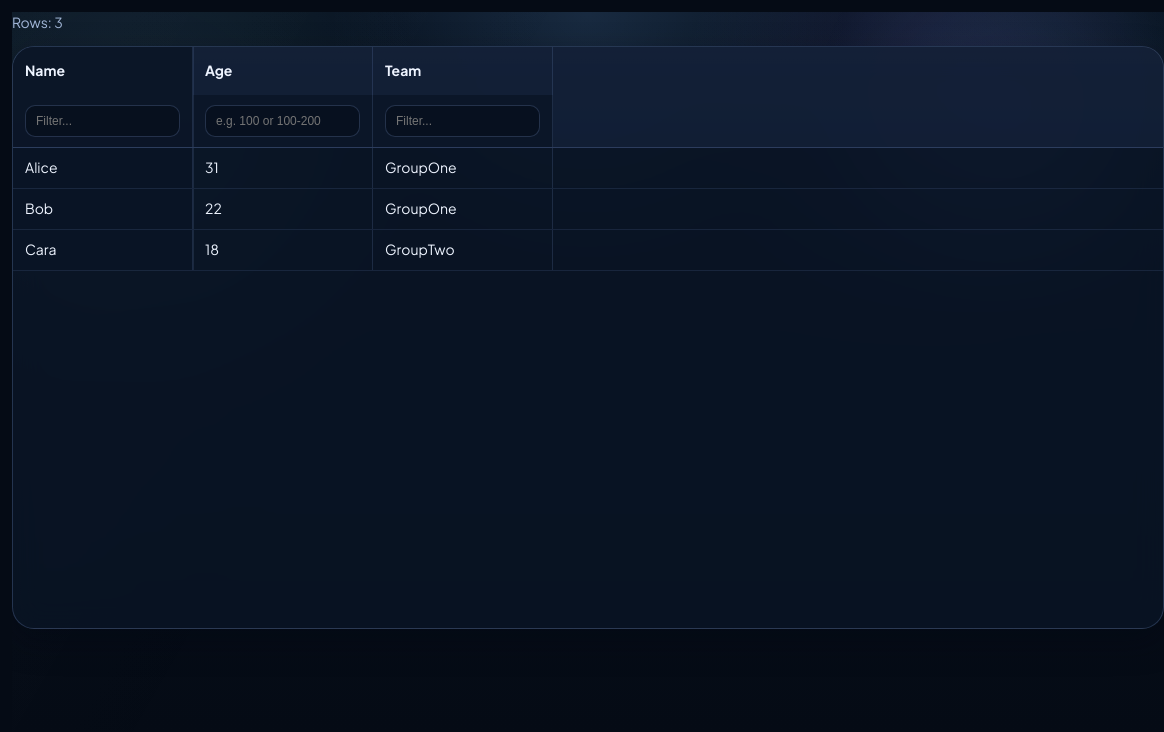
DataGrid advanced coverage › applies numeric range filtering and shift multi-sort
The image size is (1164, 732).
Click the button "Name": (103, 71) x1=13 y1=47 x2=193 y2=95
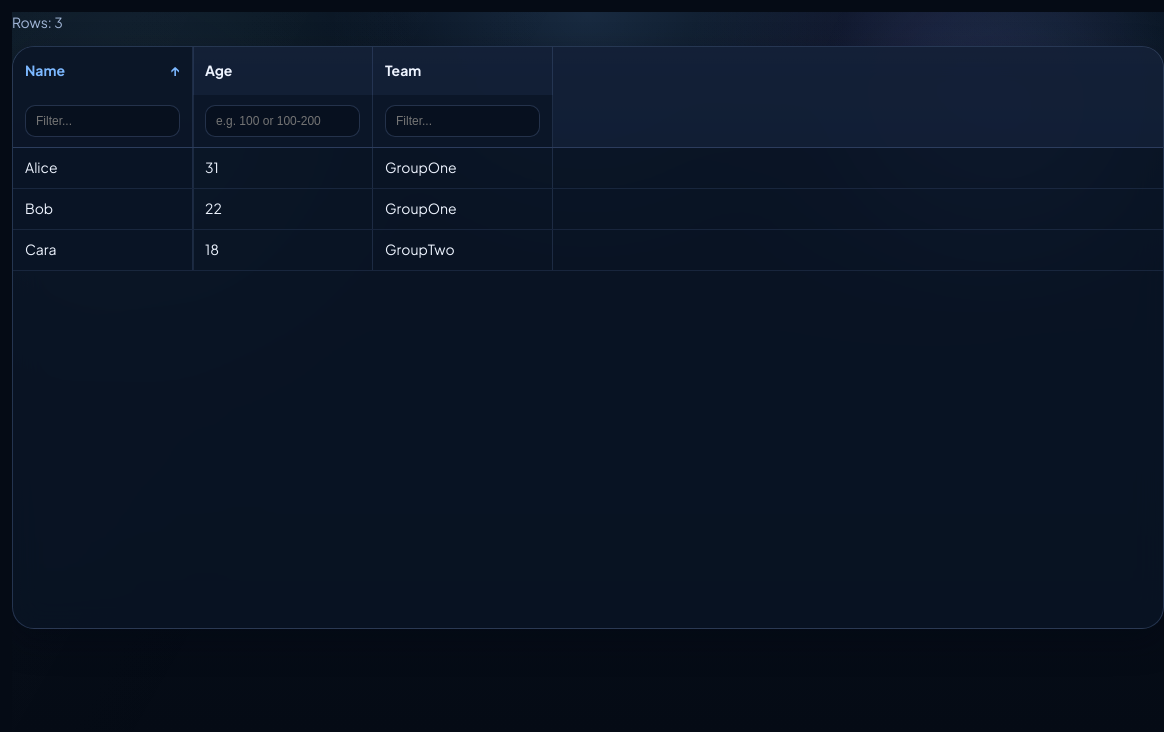
Click the button "Age": (283, 71) x1=193 y1=47 x2=373 y2=95
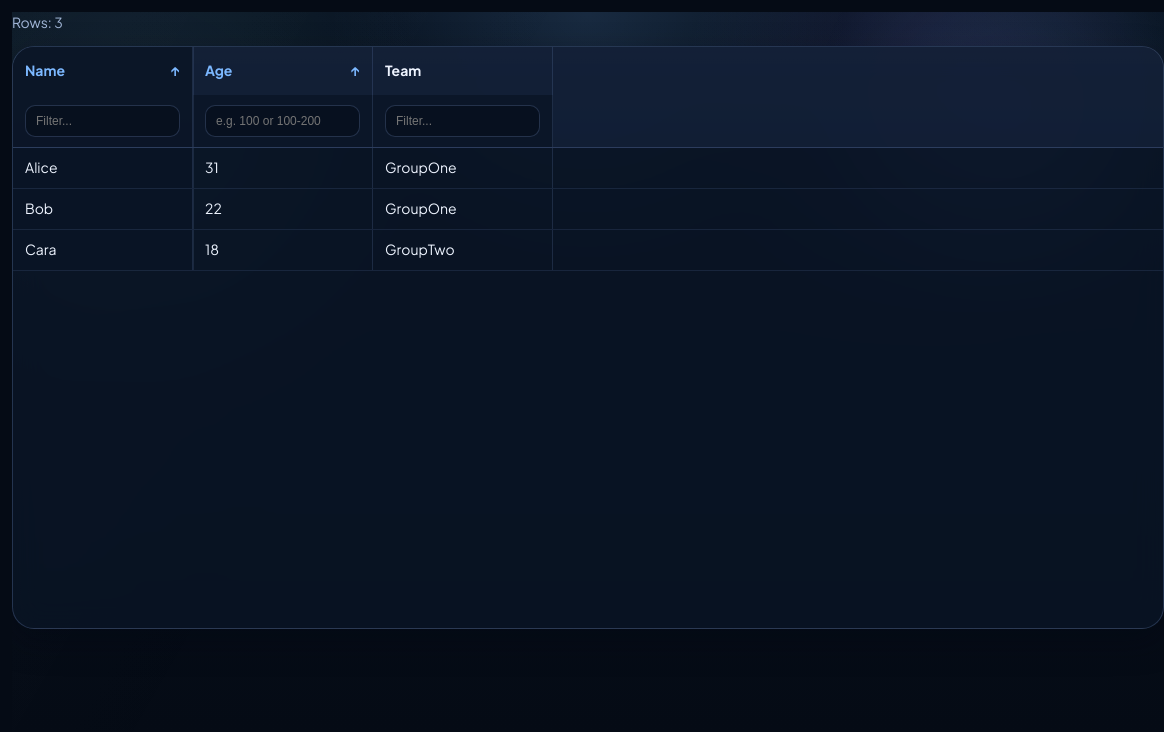
In the field with placeholder "e.g. 100 or 100-200": (282, 121) x1=205 y1=105 x2=360 y2=137, type "20-30"
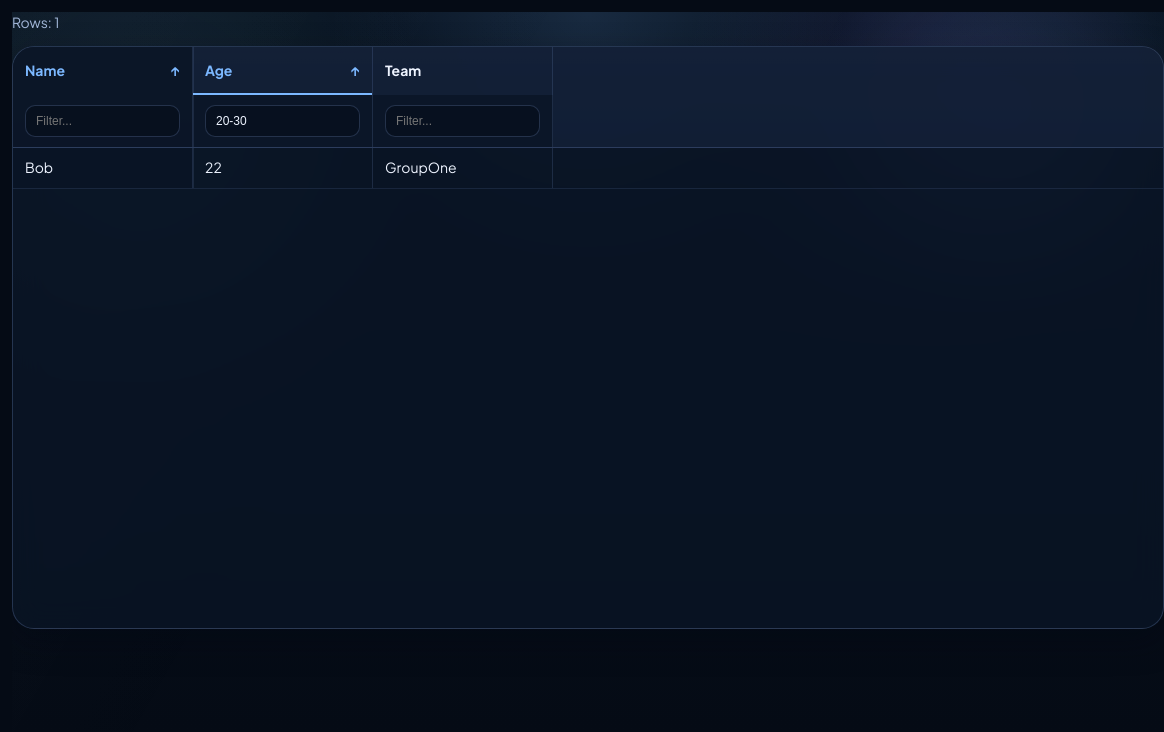
Check: the text "Bob" is shown, box x1=25 y1=157 x2=53 y2=178
Check: the text "Alice" is gone
